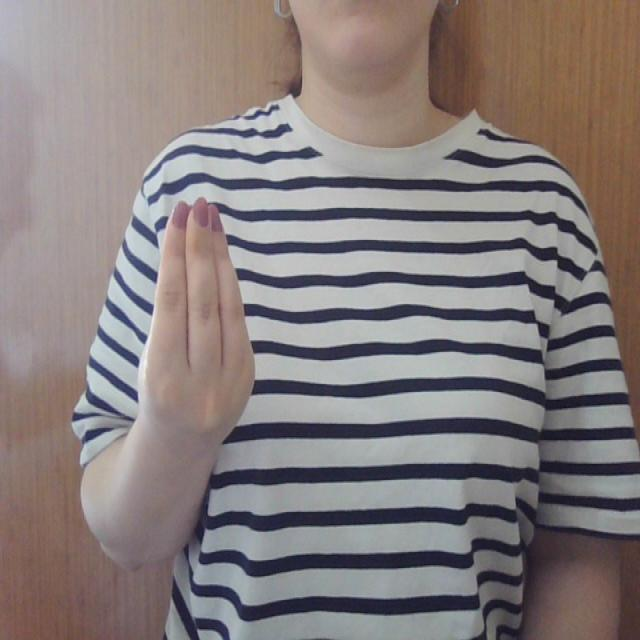iyi: (138, 189, 261, 437)
